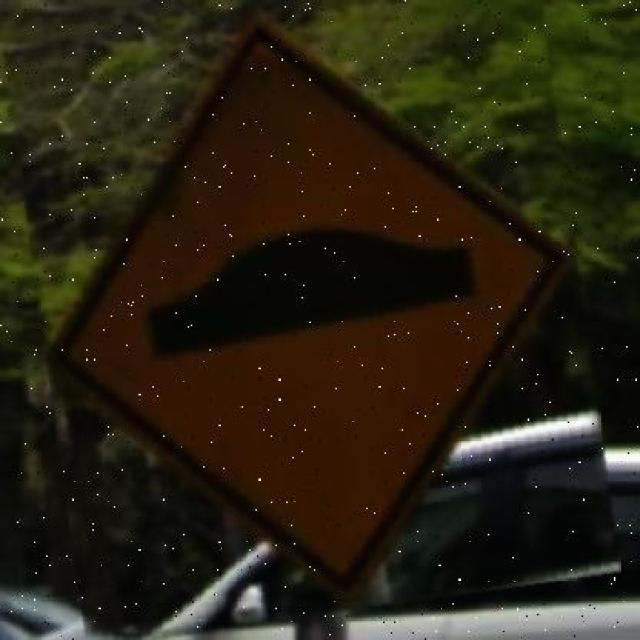Polisi Tidur: (22, 0, 600, 628)
